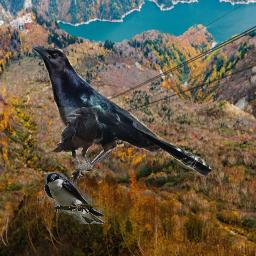Crow: (31, 46, 212, 186), (52, 107, 103, 169)
Swallow: (44, 173, 105, 224)
